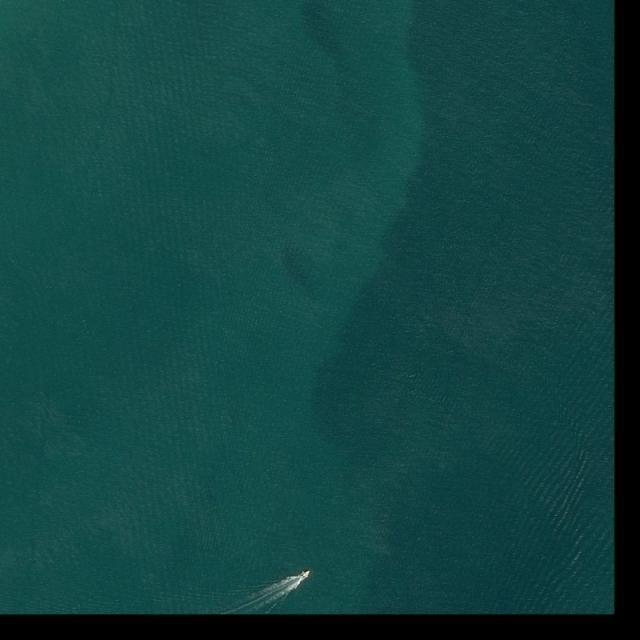ship: (302, 570, 311, 578)
